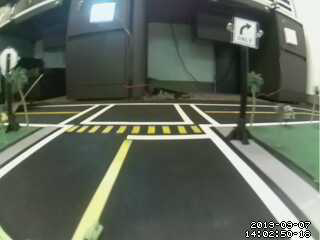Right_only_sign: (230, 14, 263, 58)
